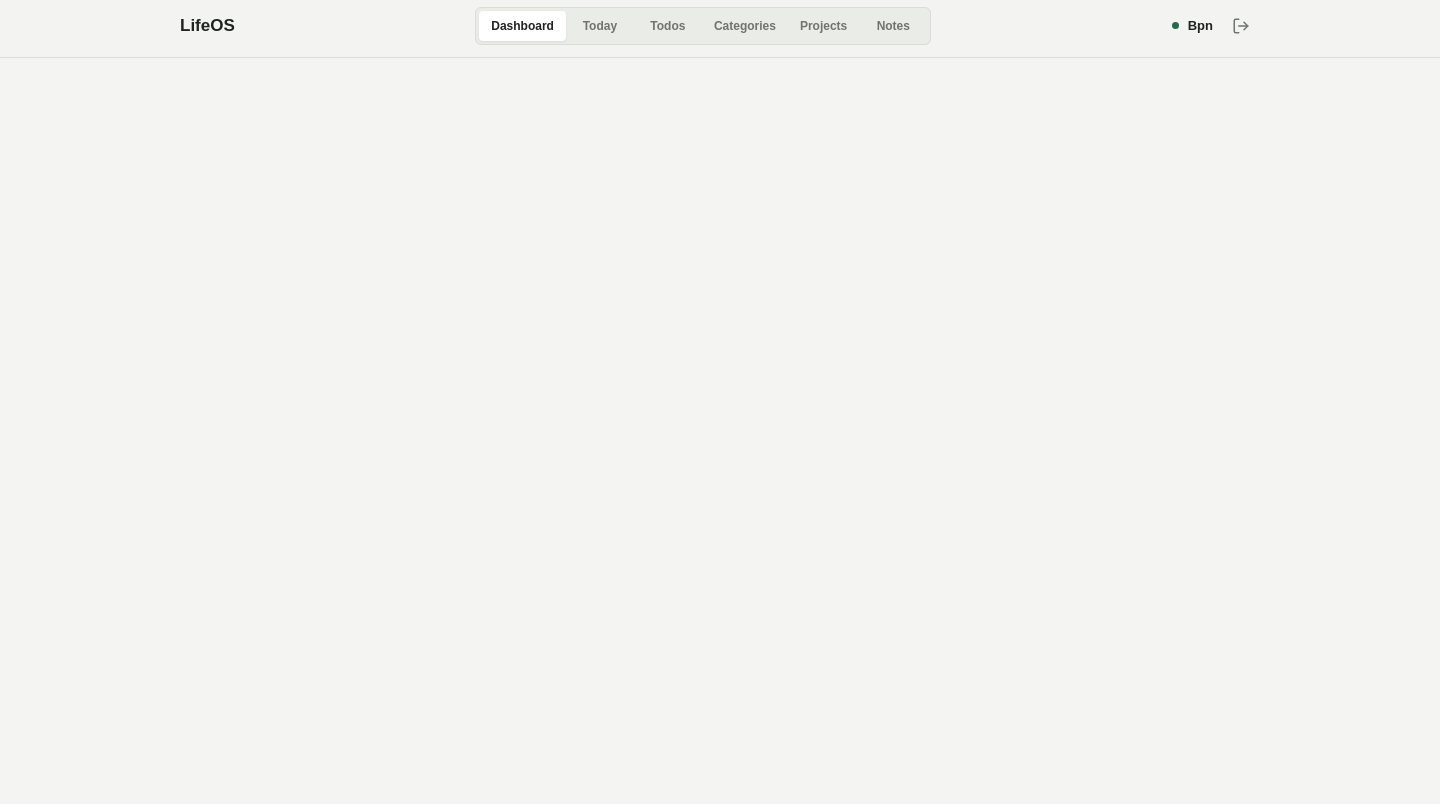
Scenario: keeps empty Today sections visible when another section has items
The image size is (1440, 804).
Click the button "Today": click(600, 26) 566,10 -> 634,40
(page scrolled)
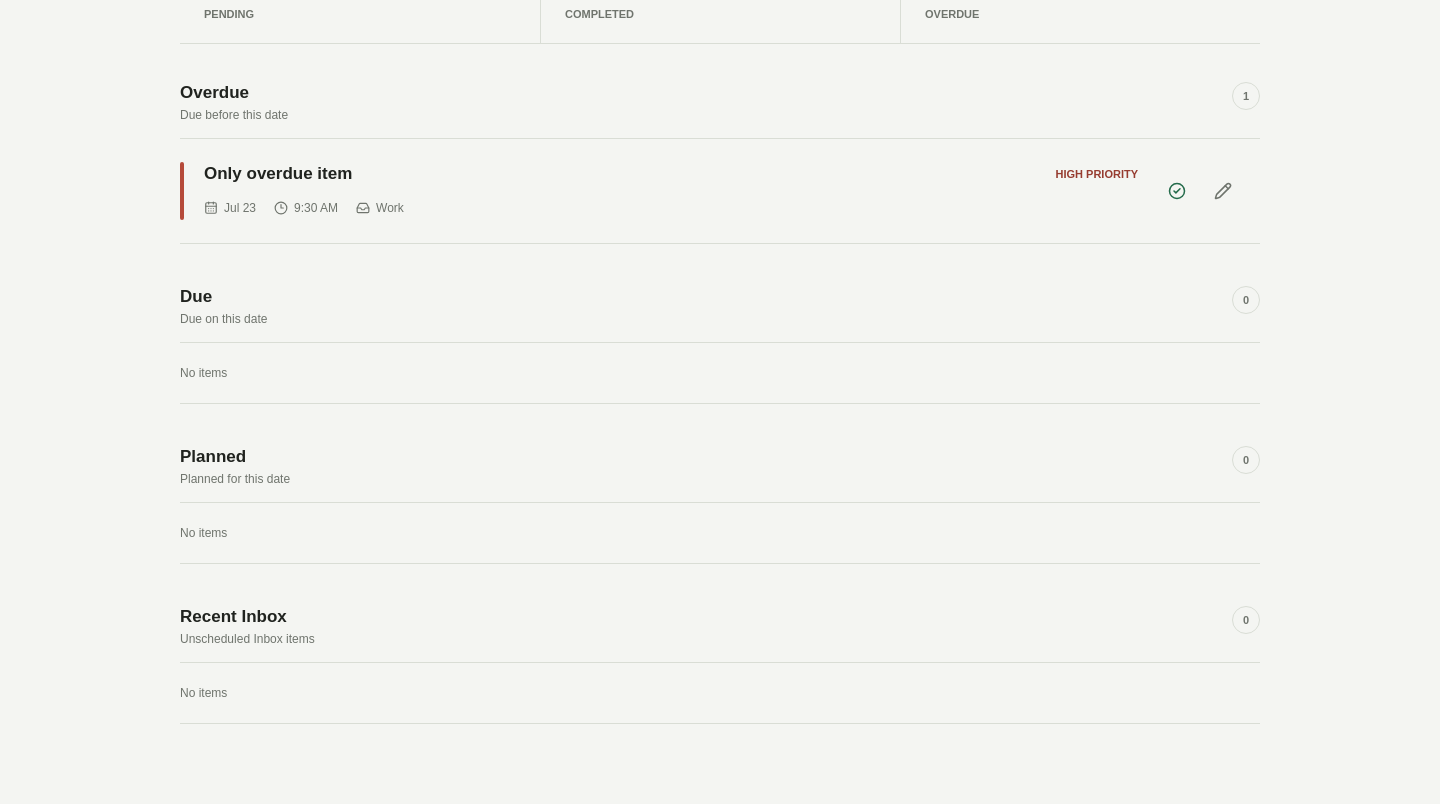
Expected: the heading "Only overdue item" is shown, 204,162 -> 352,186
Expected: the heading "Due" is shown, 180,287 -> 212,306
Expected: the heading "Planned" is shown, 180,447 -> 246,466
